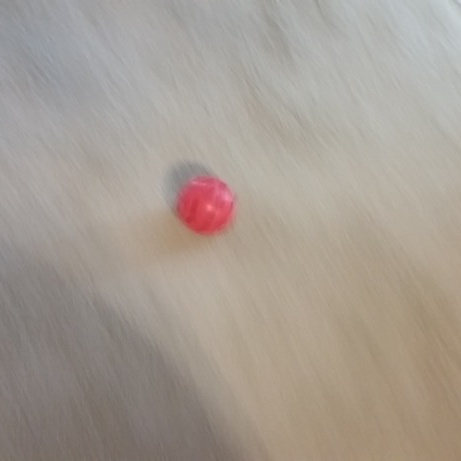redball: (172, 172, 240, 240)
